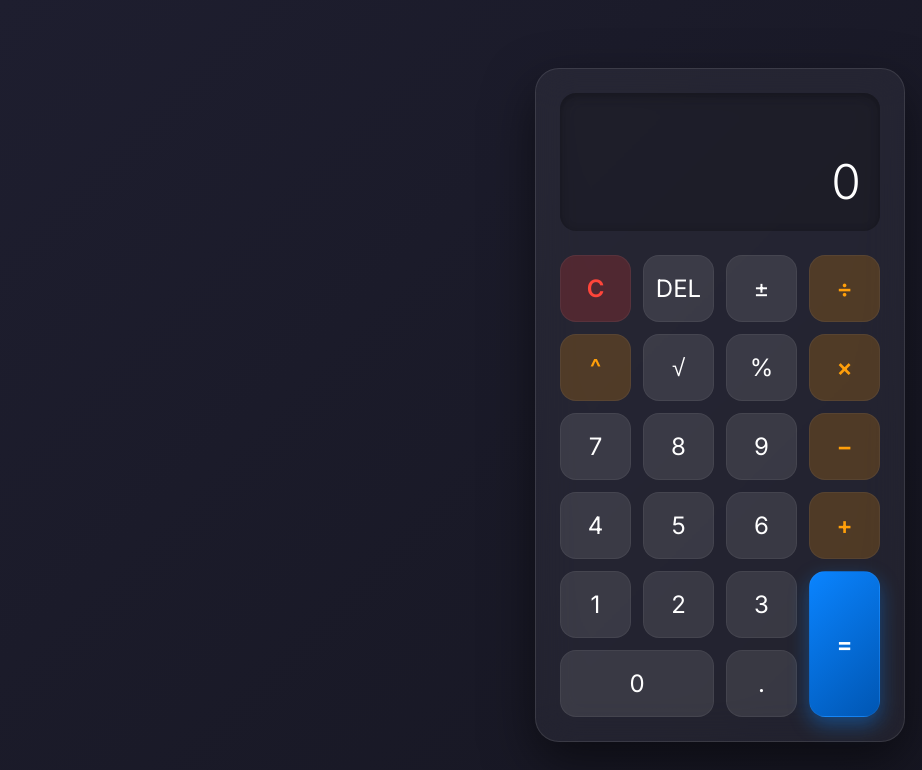
Test case: Calculator App › updates the display correctly when numbers are clicked
The image size is (922, 770).
Step 1. Click the button "7" → click(596, 447), box [560,413,631,480]
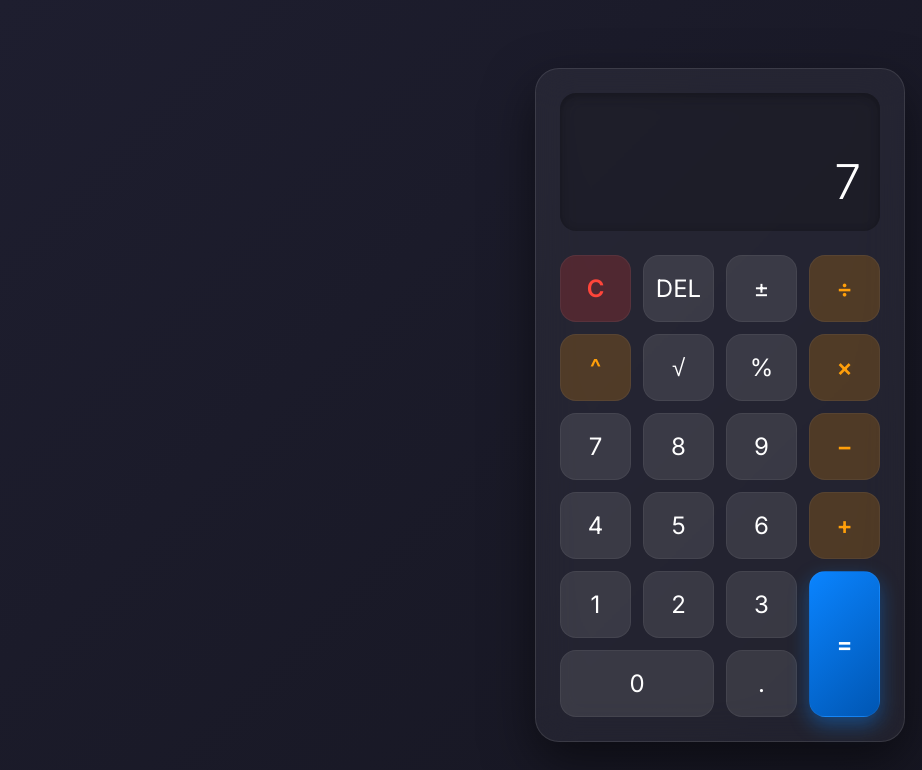
Step 2. Click the button "8" → click(678, 447), box [643,413,714,480]
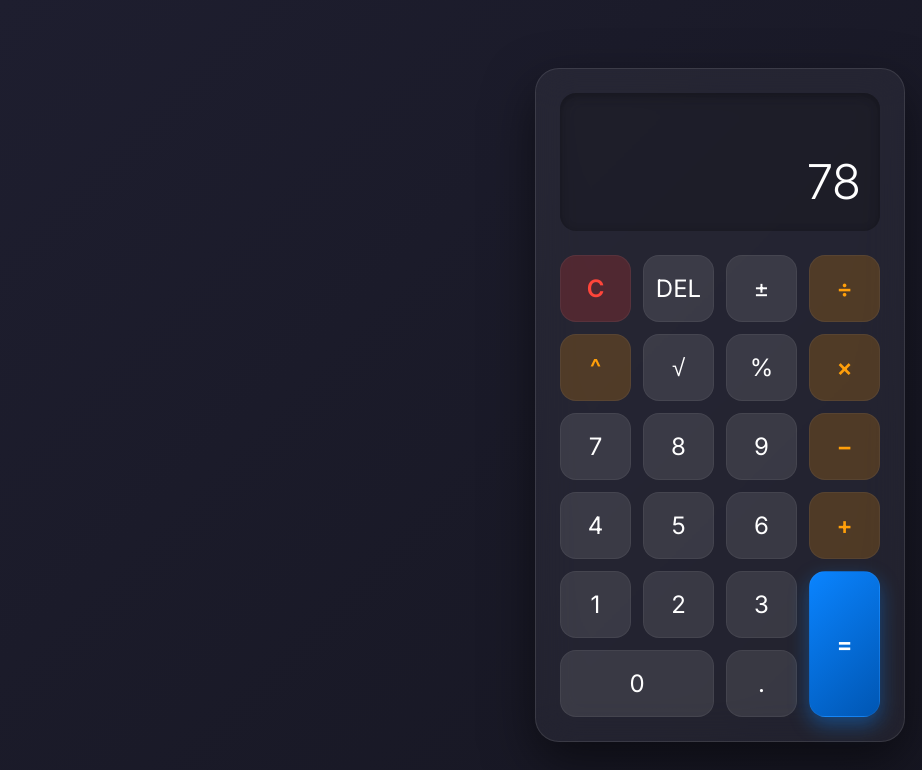
Step 3. Click the button "9" → click(762, 447), box [726,413,797,480]
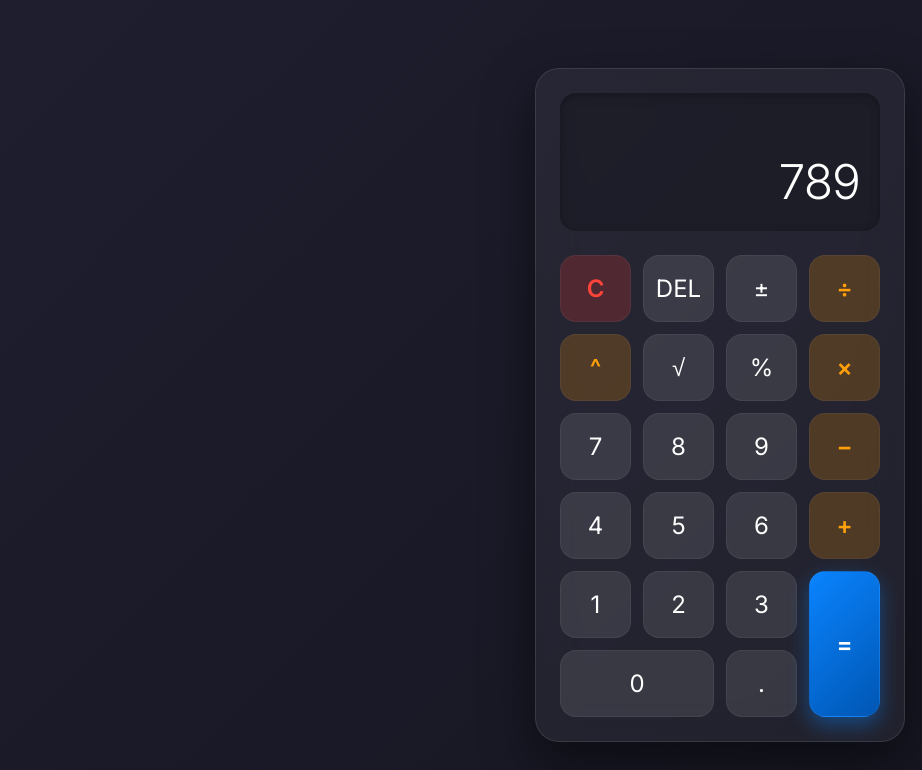
Now the text "789" is shown, box [779,152,860,211]
